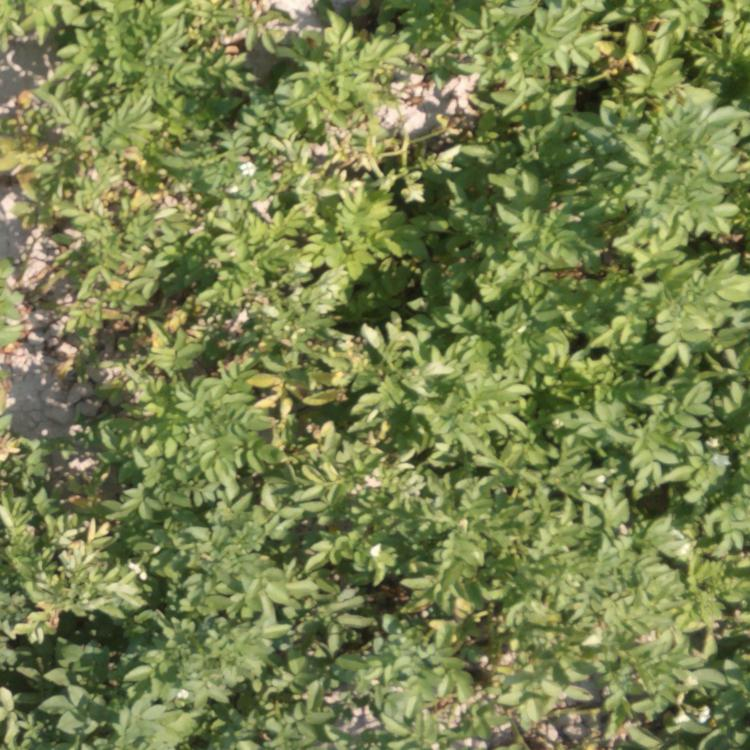healthy: (375, 325, 750, 743), (4, 440, 356, 750), (423, 1, 750, 322)
stressed: (1, 170, 364, 428), (13, 1, 353, 158), (365, 6, 423, 311)
